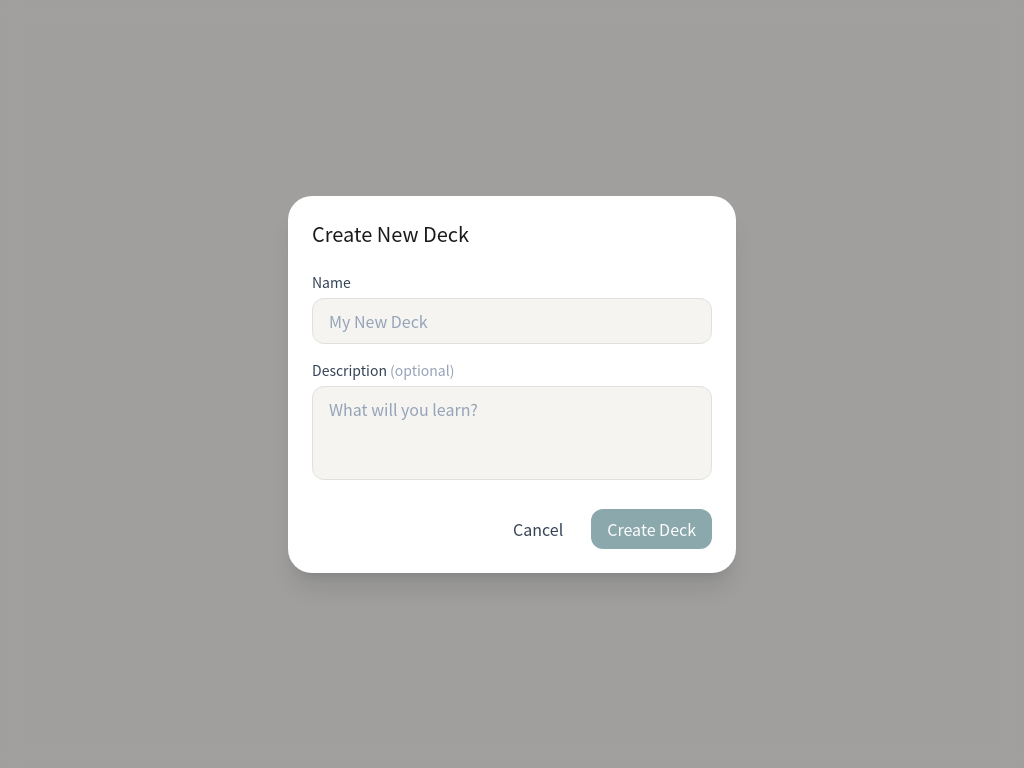
Test case: CreateDeckModal › enables create button when name has content
In the field labelled "Name": (512, 320) top-left (312, 298), bottom-right (712, 344), type "My Deck"
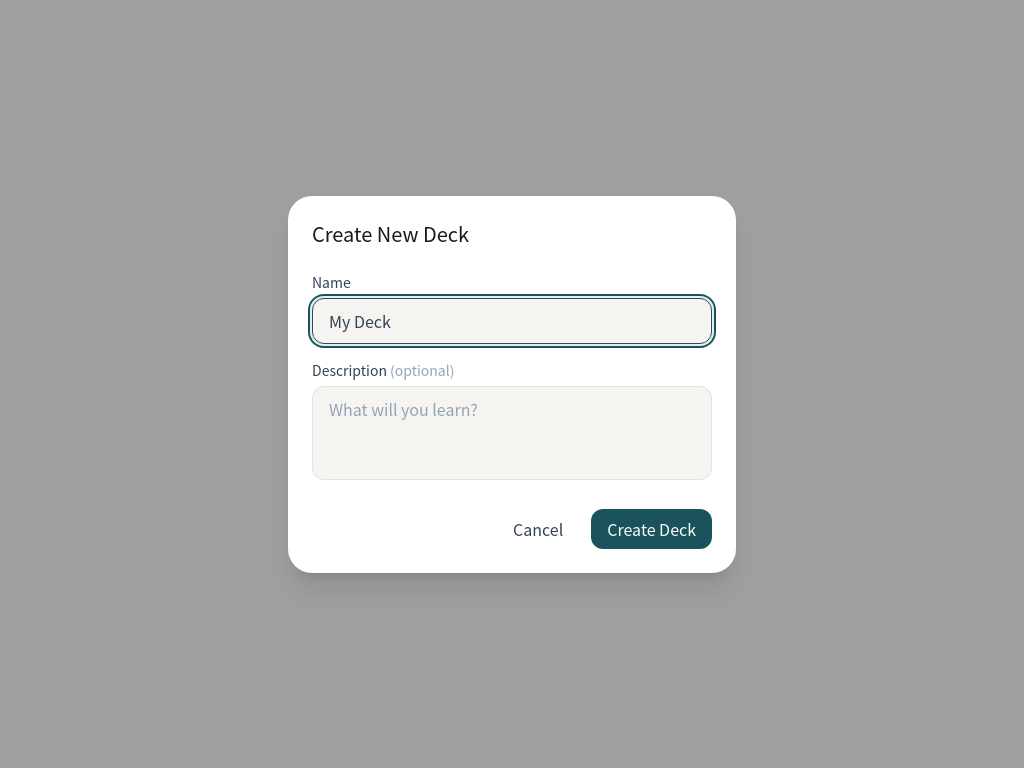
Now the button "Create Deck" is enabled, box top-left (591, 508), bottom-right (712, 548)
